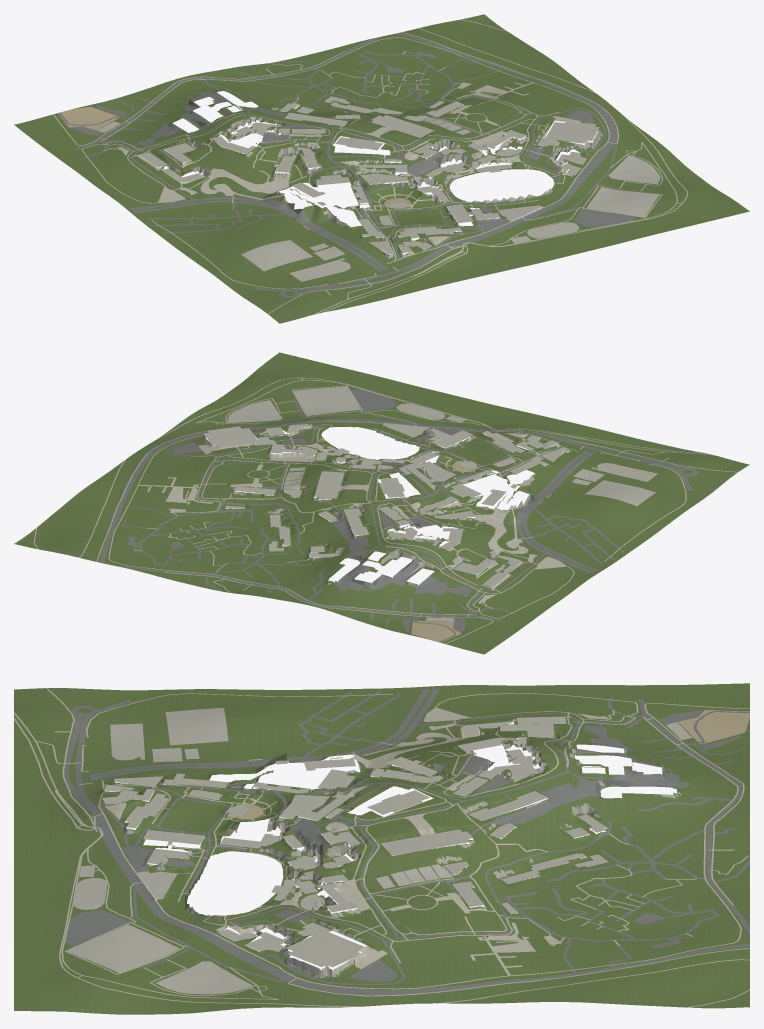
The picture shows the model from 3 angles, top to bottom: view 1: azimuth 30°, elevation 25°; view 2: azimuth 150°, elevation 25°; view 3: azimuth 270°, elevation 25°; orthographic projection. The views are drawn at different scales.
Parts seen in each view (by area): view 1: ground-ground, ground-road, building-floor-cap, ground-path, ground-grass, ground-wood, ground-pitch, ground-bank, ground-parking, ground-stonebank, ground-plaza, ground-sand; view 2: ground-ground, ground-road, building-floor-cap, ground-path, ground-wood, ground-grass, ground-pitch, ground-bank, ground-parking, ground-plaza, ground-stonebank, ground-sand; view 3: ground-ground, ground-road, building-floor-cap, ground-path, ground-grass, ground-wood, ground-pitch, ground-parking, ground-bank, ground-stonebank, ground-plaza, ground-sand.
Part boxes in pixels (x1,y1,x2,y2): ground-ground: (14,14,749,323); ground-road: (59,33,644,297); building-floor-cap: (139,96,599,254); ground-path: (53,19,688,314); ground-grass: (97,104,674,295); ground-wood: (105,97,554,232); ground-pitch: (97,117,660,281); ground-bank: (138,91,601,259); ground-parking: (69,51,634,232); ground-stonebank: (163,101,602,258); ground-plaza: (117,82,580,245); ground-sand: (58,106,411,207); ground-ground: (14,352,749,654); ground-road: (99,391,697,642); building-floor-cap: (203,422,567,587); ground-path: (33,377,737,643); ground-wood: (228,431,541,608); ground-grass: (197,379,691,631); ground-pitch: (227,386,657,621); ground-bank: (200,423,571,589); ground-parking: (128,389,510,633); ground-plaza: (168,424,566,603); ground-stonebank: (201,429,570,588); ground-sand: (411,460,477,642); ground-ground: (14,683,749,1014); ground-road: (62,688,749,995); building-floor-cap: (103,716,608,967); ground-path: (14,688,749,1007); ground-grass: (46,709,739,999); ground-wood: (171,710,648,925); ground-pitch: (67,708,692,994); ground-parking: (65,710,742,982); ground-bank: (97,718,680,978); ground-stonebank: (103,723,680,978); ground-plaza: (104,707,611,969); ground-sand: (226,710,749,819).
Size of the model in its own units: 951 by 62.31 by 930.
Materials: 13 (13 with a texture image).
